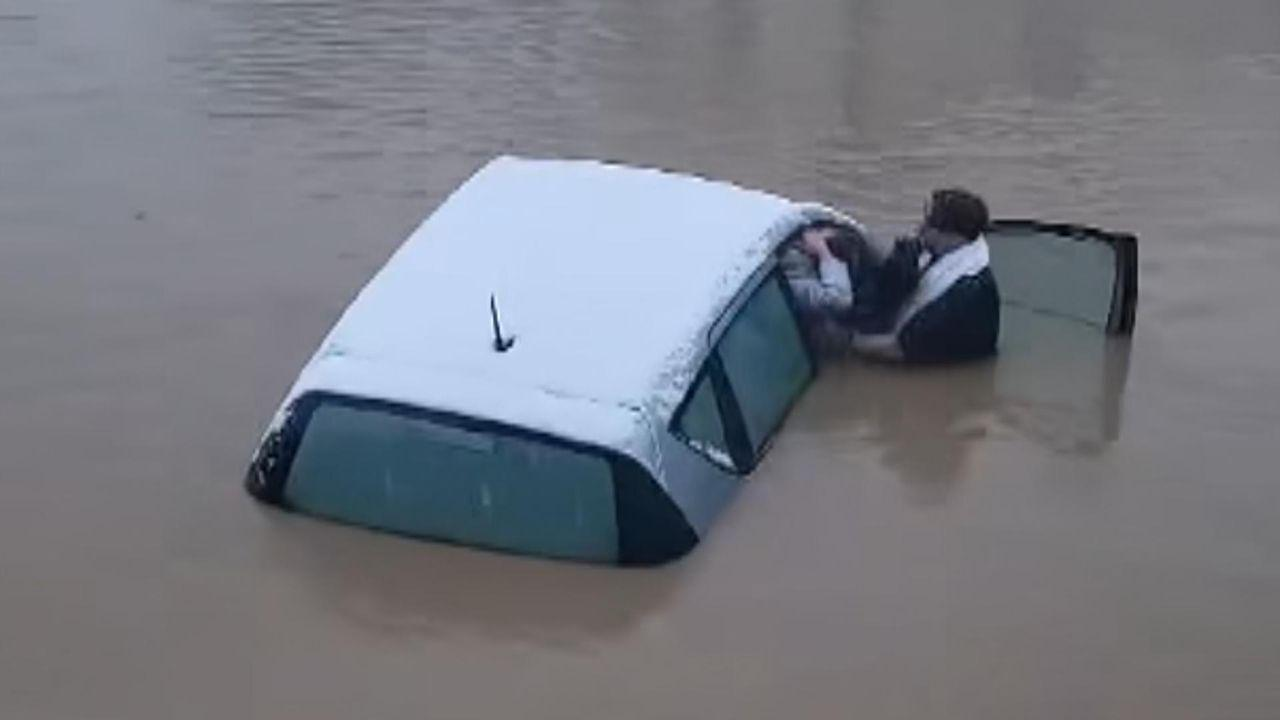water: (1, 290, 1278, 719), (1, 0, 1278, 307)
